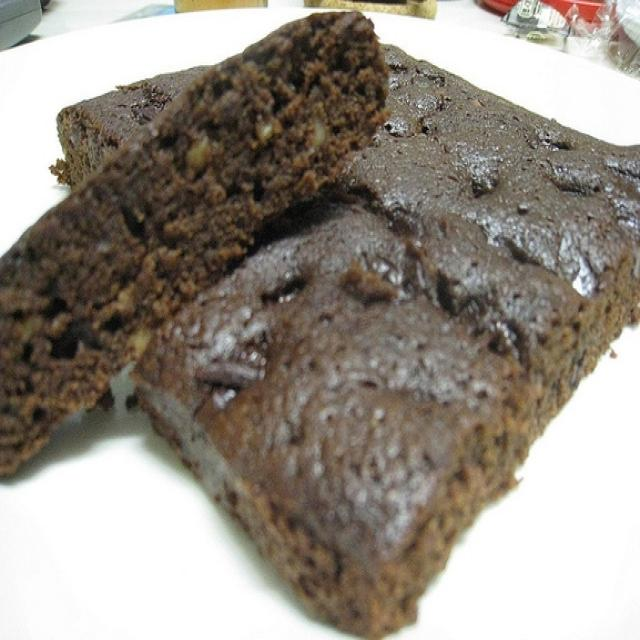蛋糕甜品: (10, 31, 619, 625)
